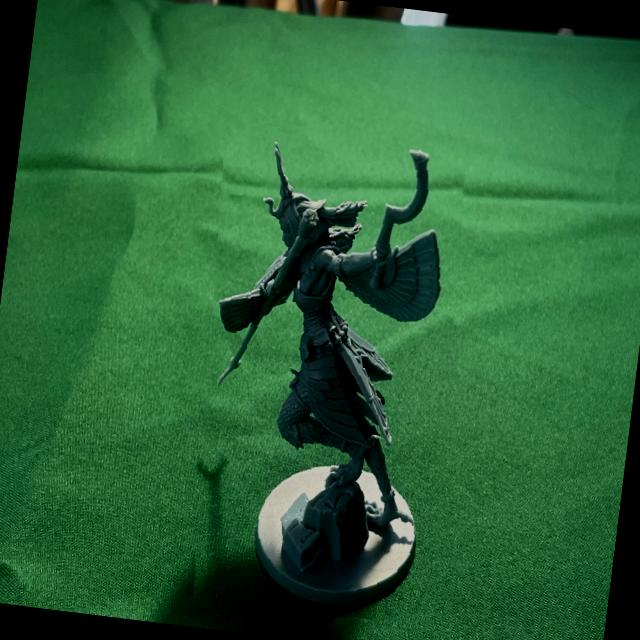isis: (173, 112, 486, 632)
